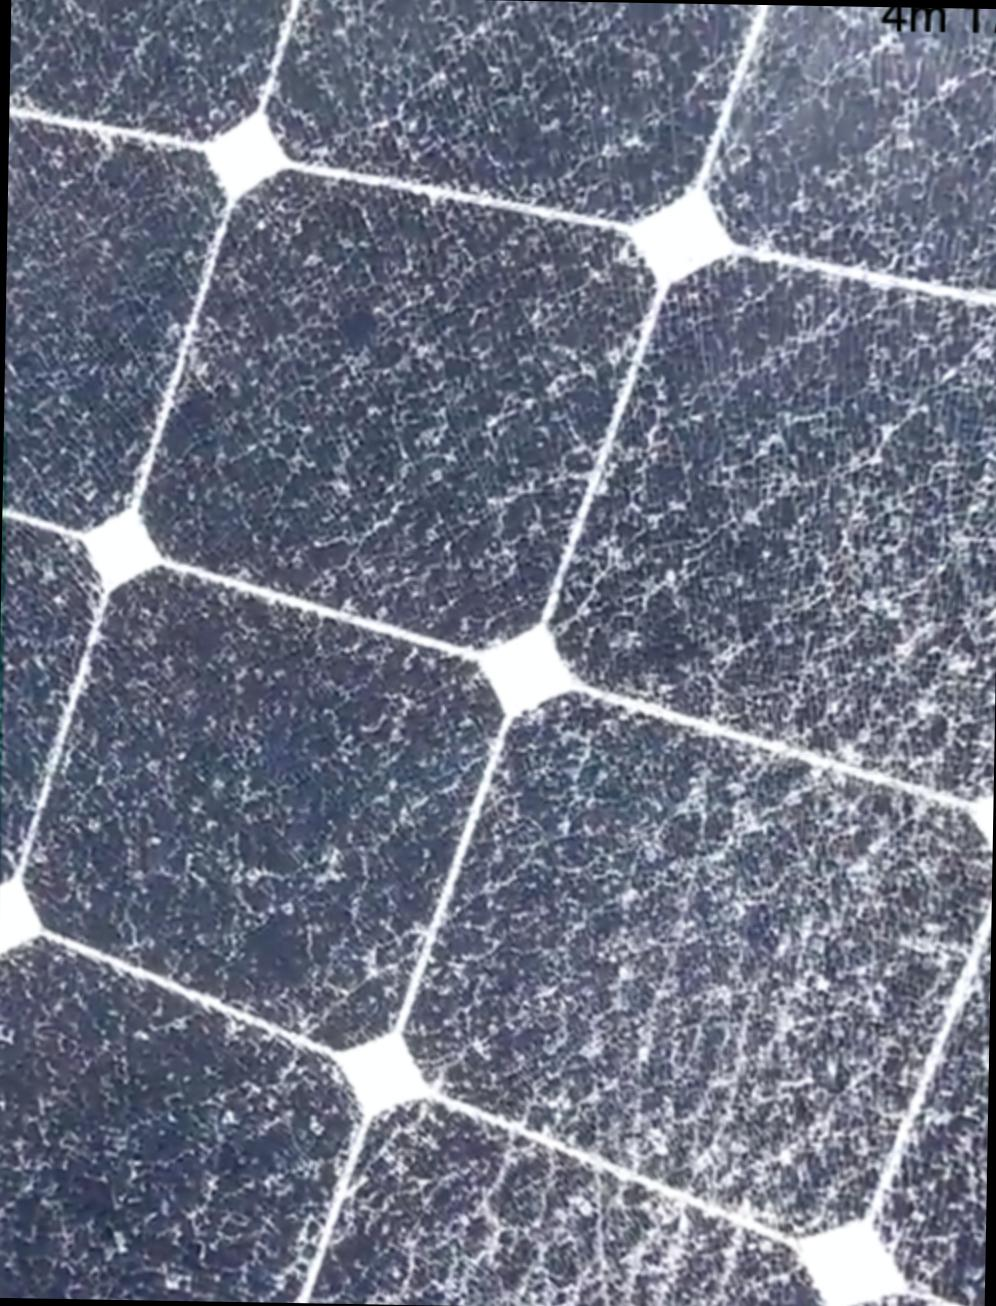Crack: (461, 593, 995, 1305)
